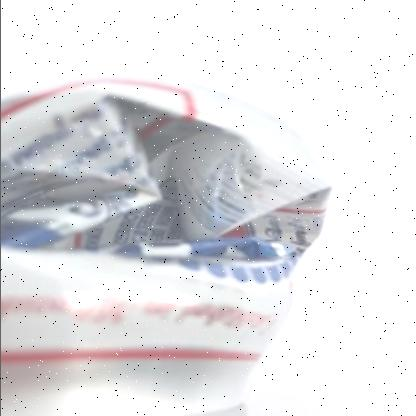Can: (1, 75, 332, 416)
